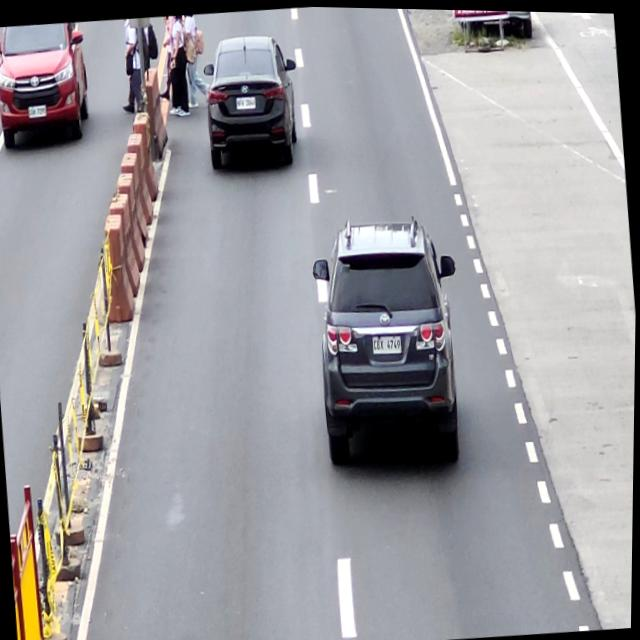Car: (308, 211, 473, 475), (199, 29, 305, 171)
License-Plate: (373, 333, 402, 353), (235, 94, 256, 109)
